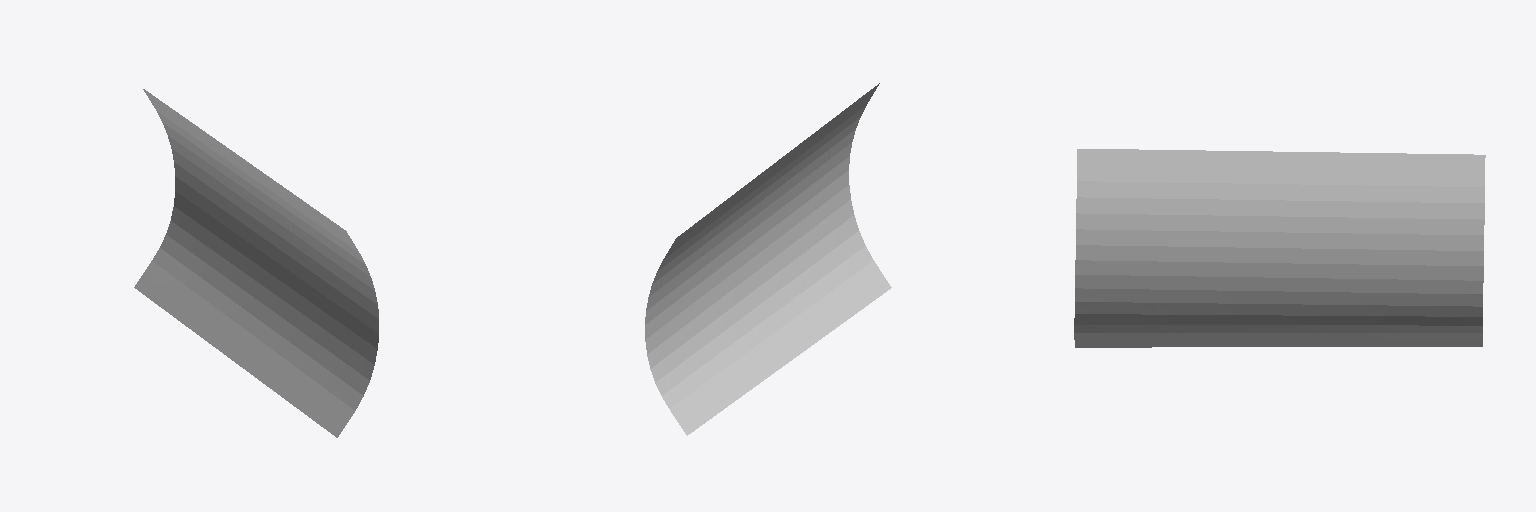
File: page0006.obj
3 renders of one model, left to right at view 1: azimuth 30°, elevation 25°; view 2: azimuth 150°, elevation 25°; view 3: azimuth 270°, elevation 25°, orthographic.
Size of the model in its own units: 60 by 276 by 503.